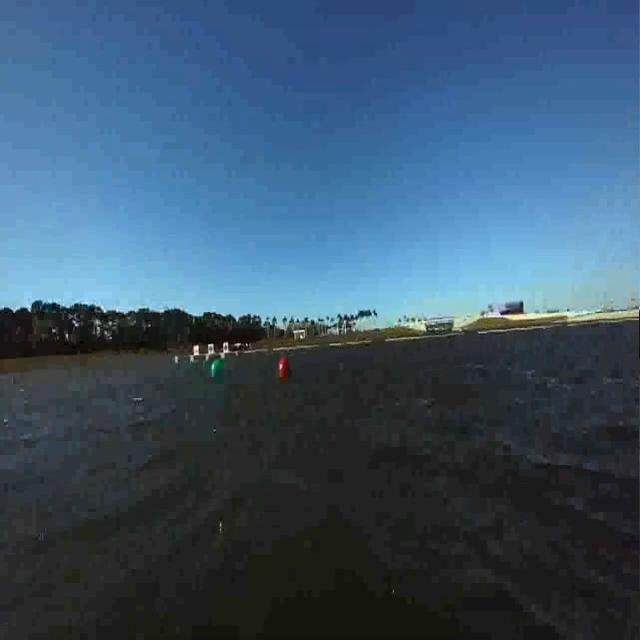green-buoy: (210, 358, 226, 390)
red-buoy: (278, 357, 289, 385)
